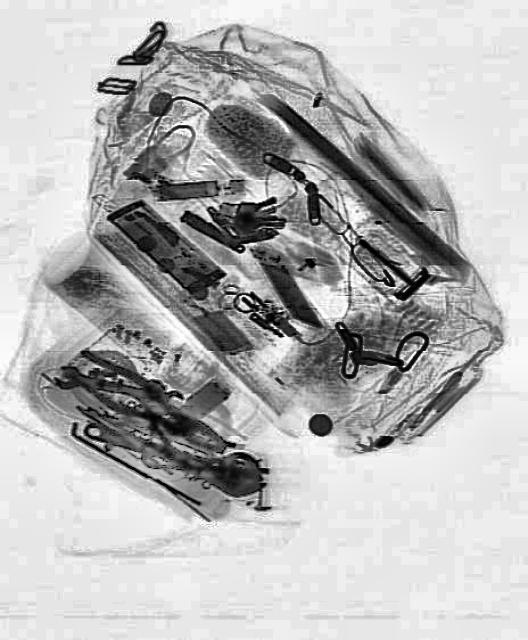Pliers: (59, 338, 234, 470)
Wrench: (77, 406, 269, 504), (52, 358, 164, 406)
